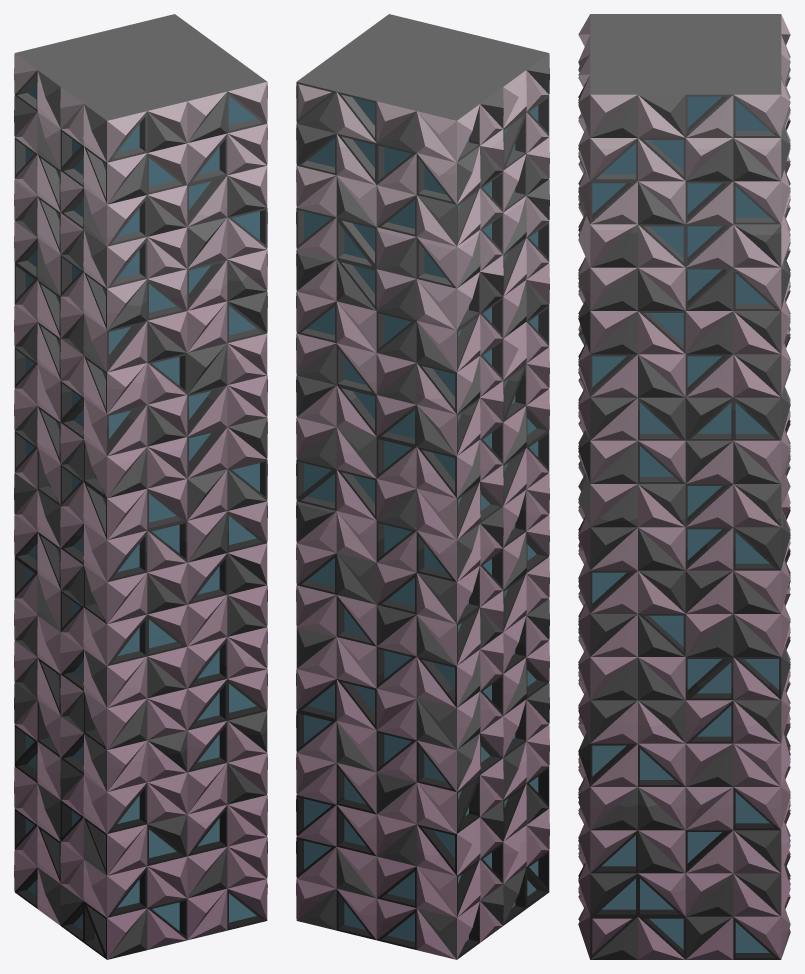
Rendered from Skycraper006.fbx.
The picture shows the model from 3 angles, left to right: view 1: azimuth 30°, elevation 25°; view 2: azimuth 150°, elevation 25°; view 3: azimuth 270°, elevation 25°; orthographic projection. The views are drawn at different scales.
Visible parts, largest first — view 1: SC6; view 2: SC6; view 3: SC6.
Boxes of the visible parts, x1=… form: SC6: x1=14, y1=14, x2=267, y2=959; SC6: x1=296, y1=14, x2=549, y2=959; SC6: x1=578, y1=14, x2=790, y2=959.
Size of the model in its own units: 440 by 2000 by 445.
